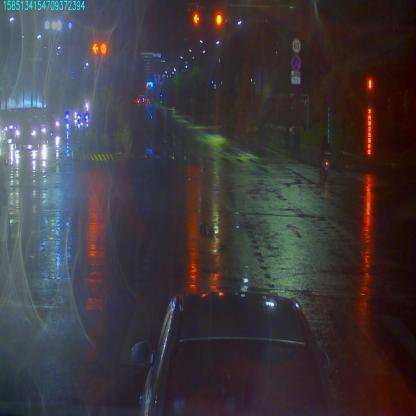traffic-light: (214, 10, 221, 29), (194, 10, 199, 27)
